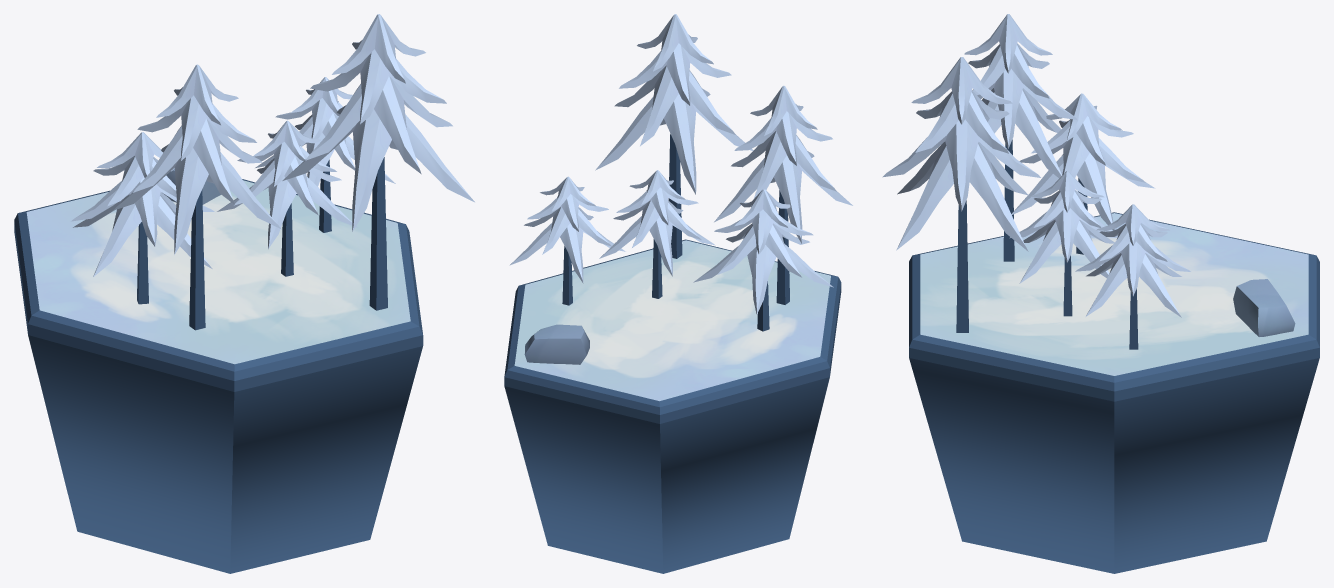
File: Asset_TileSnow 1.fbx
The picture shows the model from 3 angles, left to right: view 1: azimuth 30°, elevation 25°; view 2: azimuth 150°, elevation 25°; view 3: azimuth 270°, elevation 25°; orthographic projection. The views are drawn at different scales.
Parts seen in each view (by area): view 1: PolySurface_TileMontain_01, PolySurface_Leaf (×5), PolySurface_Trunk (×4); view 2: PolySurface_TileMontain_01, PolySurface_Leaf (×5), PolySurface_Trunk (×4), PolySurface_Rock_01; view 3: PolySurface_TileMontain_01, PolySurface_Leaf (×5), PolySurface_Rock_01, PolySurface_Trunk (×2).
Boxes of the visible parts, left/top/right/bottom form: PolySurface_TileMontain_01: left=14, top=179, right=423, bottom=573; PolySurface_Leaf (×5): left=71, top=14, right=474, bottom=276; PolySurface_Trunk (×4): left=137, top=157, right=387, bottom=330; PolySurface_TileMontain_01: left=504, top=239, right=841, bottom=573; PolySurface_Leaf (×5): left=509, top=14, right=852, bottom=314; PolySurface_Trunk (×4): left=562, top=134, right=789, bottom=305; PolySurface_Rock_01: left=524, top=324, right=589, bottom=364; PolySurface_TileMontain_01: left=909, top=212, right=1319, bottom=573; PolySurface_Leaf (×5): left=882, top=14, right=1190, bottom=317; PolySurface_Rock_01: left=1233, top=279, right=1295, bottom=336; PolySurface_Trunk (×2): left=956, top=139, right=1014, bottom=332.
Bounding box in the file's own units: 2 × 2.62 × 2.13.
